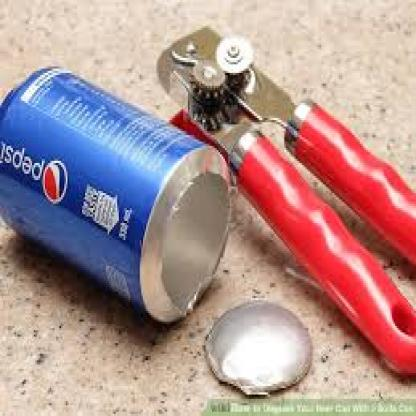Aerosols: (0, 54, 257, 313)
